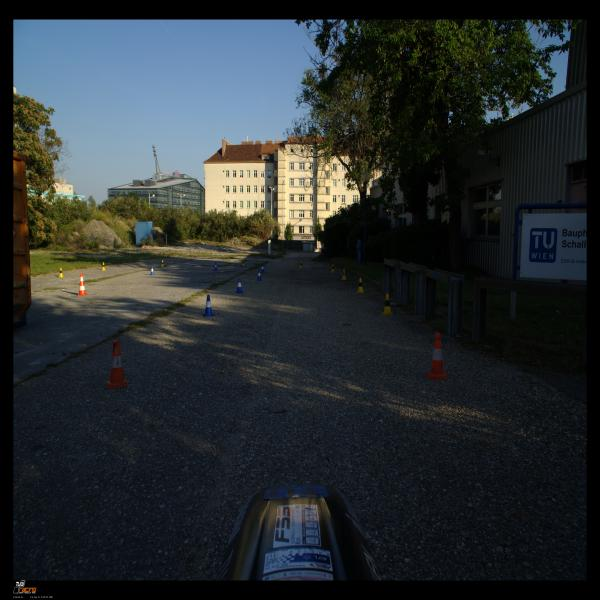blue_cone: (203, 294, 214, 316), (236, 278, 243, 293), (256, 270, 262, 280), (260, 264, 265, 273), (150, 266, 155, 275), (214, 262, 218, 270)
large_orange_cone: (77, 273, 88, 295)
orange_cone: (104, 340, 129, 390), (424, 333, 450, 381)
yellow_cone: (381, 293, 393, 316), (356, 278, 364, 293), (341, 269, 347, 280), (58, 268, 64, 277), (331, 264, 336, 273), (101, 262, 106, 270), (299, 261, 303, 268), (242, 259, 246, 266), (161, 260, 164, 267)
